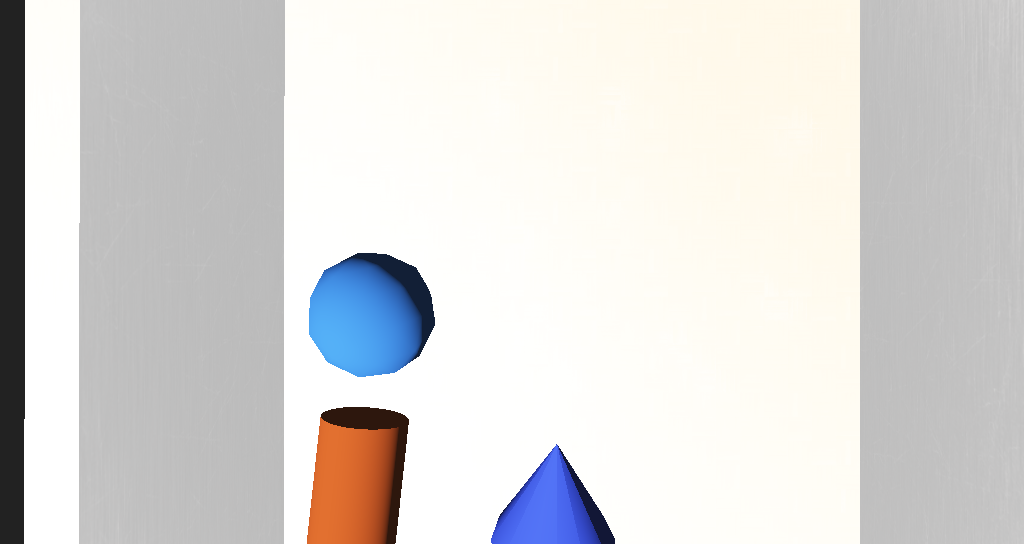cone: (367, 317, 428, 370)
cylinder: (458, 313, 525, 384)
sphere: (374, 258, 435, 305)
